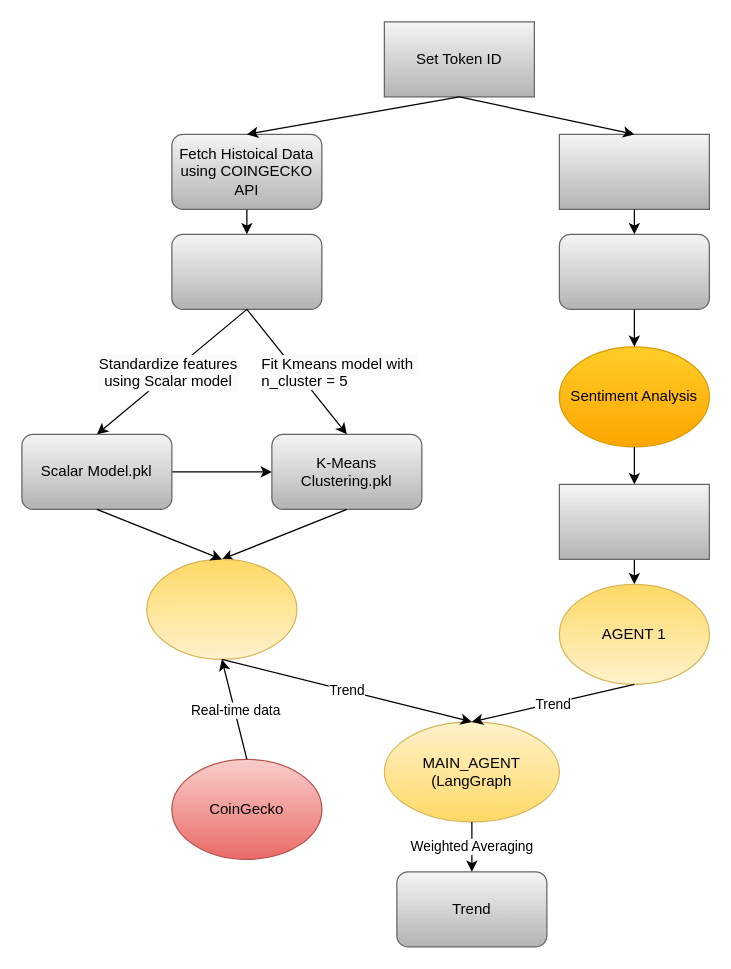
The diagram is 731 pixels wide and 969 high, and some of its shapes have lost their labels. Each missing label, with the centre of its shape:
AGENT 2: the point at 221,608
Calculate Features: the point at 246,271
Feature Extraction: the point at 633,271
LLM: the point at 633,521
Twitter API: the point at 633,171
